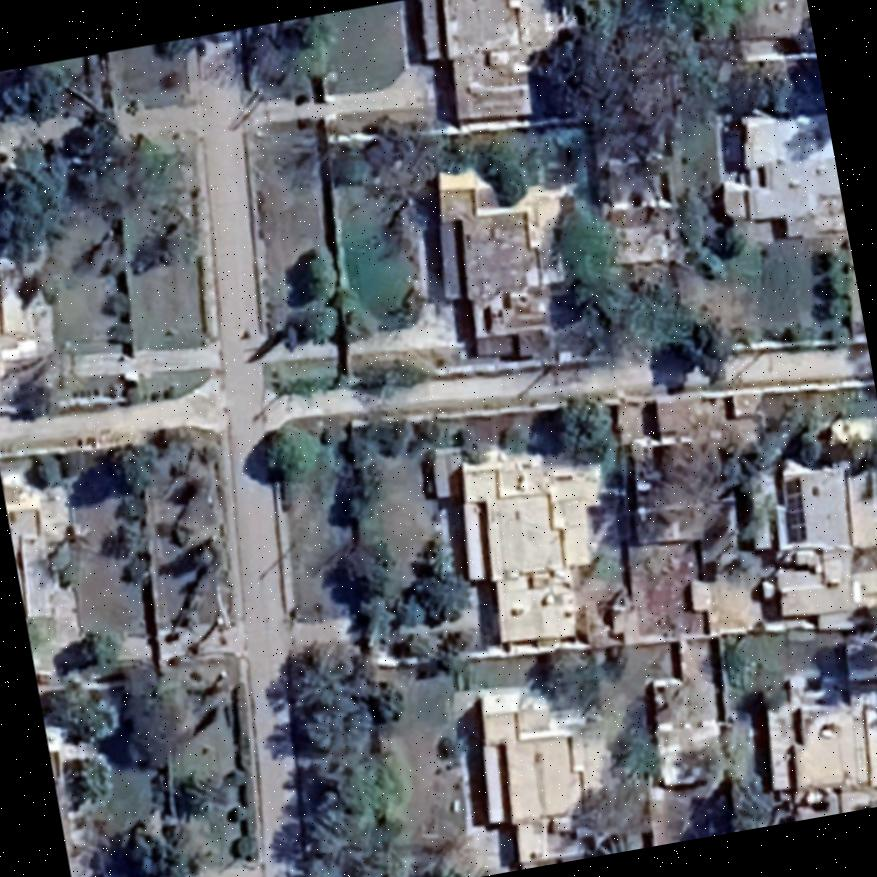Solarpanel: (772, 471, 816, 550)
